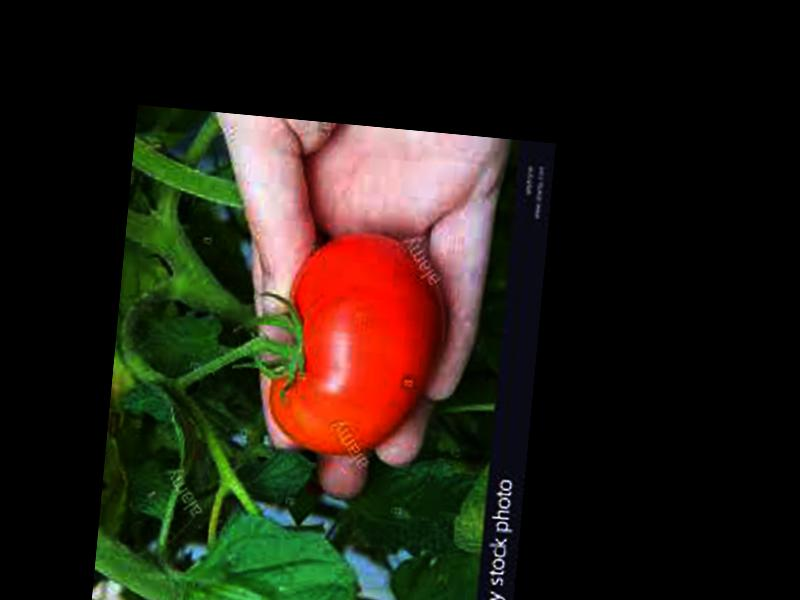Tomato: (265, 224, 447, 463)
